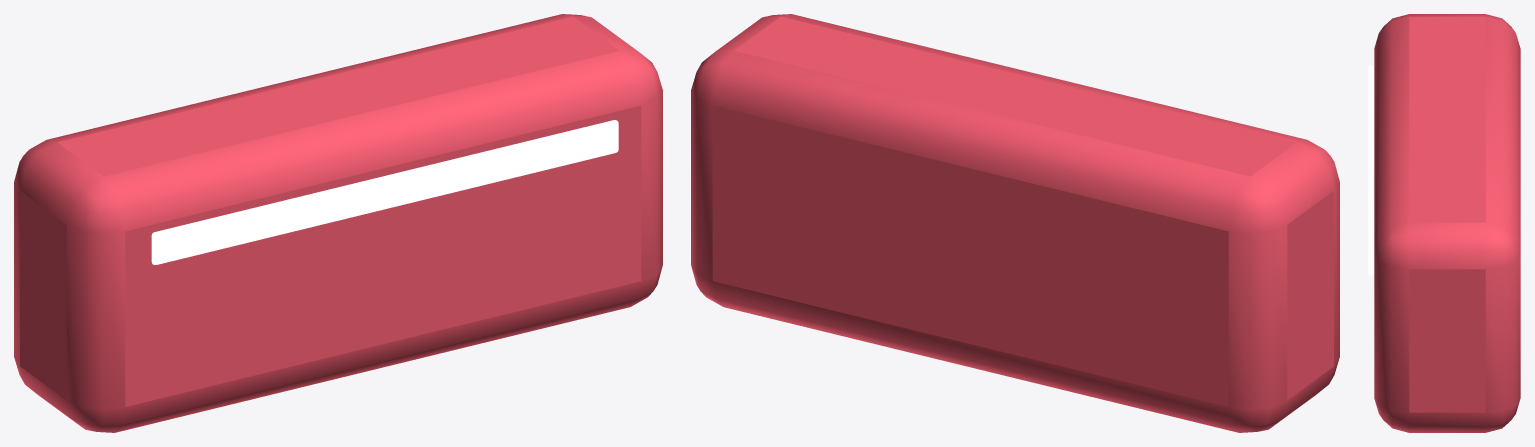
Rendered from cihla_cervena.glb.
3 renders of one model, left to right at view 1: azimuth 30°, elevation 25°; view 2: azimuth 150°, elevation 25°; view 3: azimuth 270°, elevation 25°, orthographic. The views are drawn at different scales.
Visible parts, largest first — view 1: cihla_cervena_m, cihla_cervena_lesk; view 2: cihla_cervena_m; view 3: cihla_cervena_m, cihla_cervena_lesk.
Part boxes in pixels (<box>): cihla_cervena_m: <box>14,14,662,432</box>; cihla_cervena_lesk: <box>151,120,618,264</box>; cihla_cervena_m: <box>691,14,1339,432</box>; cihla_cervena_m: <box>1374,14,1520,432</box>; cihla_cervena_lesk: <box>1368,65,1374,275</box>.
Bounding box in the file's own units: 1.9 × 0.78 × 0.52.
